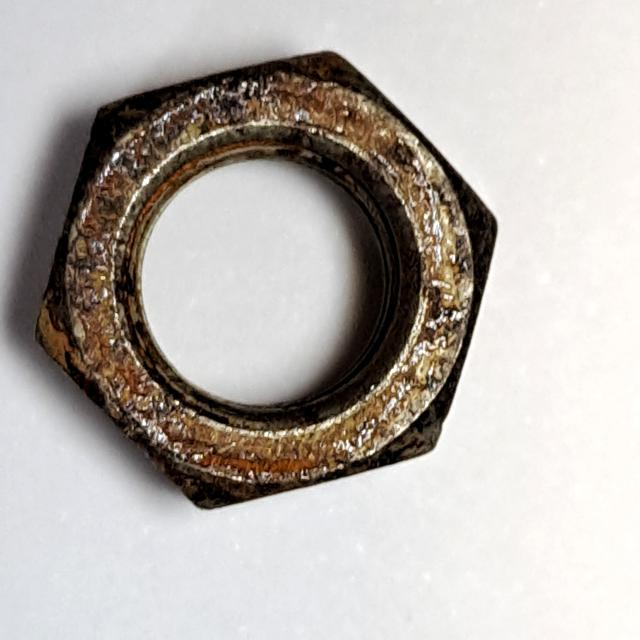Rust: (21, 38, 514, 523)
